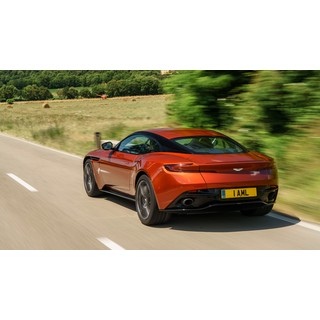car: (81, 123, 279, 228)
